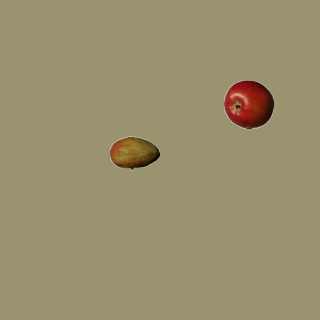Apple Braeburn: (223, 79, 273, 129)
Papaya: (109, 128, 159, 178)
